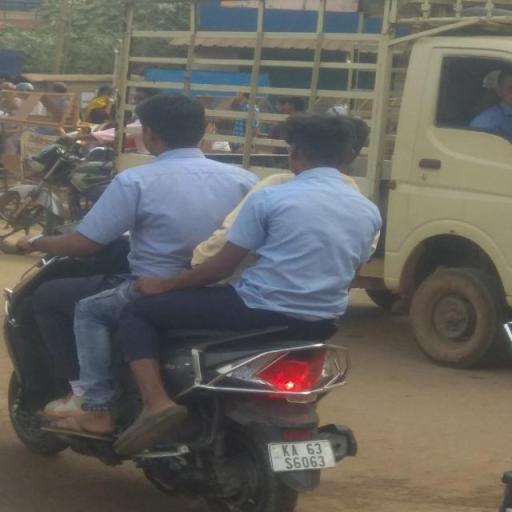bike: (4, 81, 396, 512)
numberplate: (267, 438, 341, 476)
withouthelmet: (284, 117, 362, 171), (140, 92, 202, 150)
